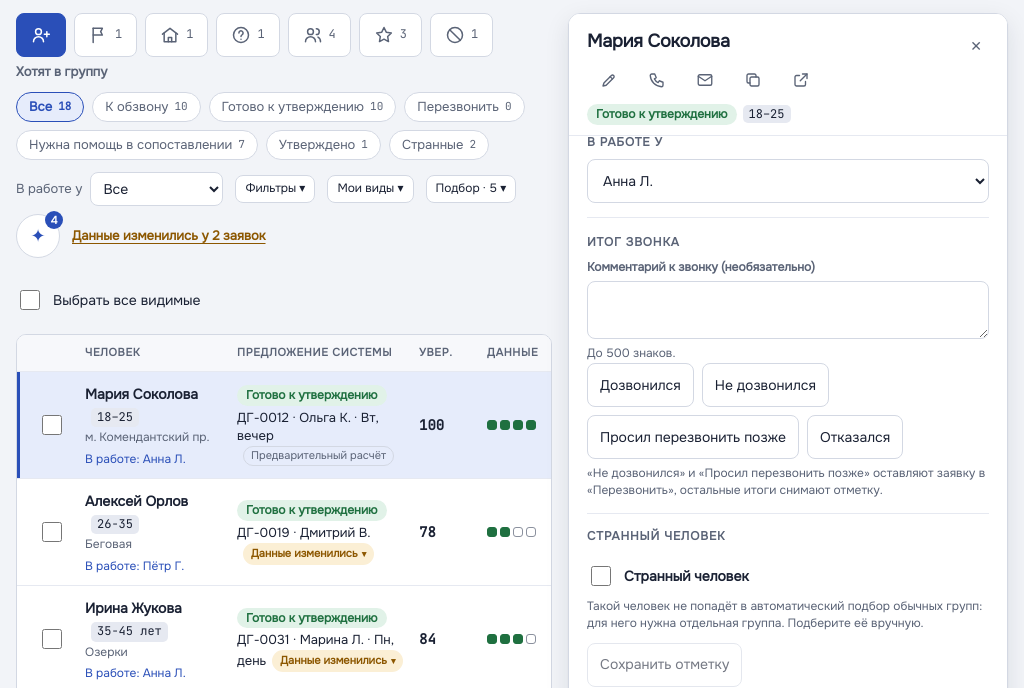
Test: Карточка заявки: итог звонка › кнопка «Дозвонился» шлёт result=reached и подтверждает «Записано: дозвонился.»
The image size is (1024, 688).
(page scrolled)
Click the button "Дозвонился".
click(640, 385)  # box [587,363,694,407]
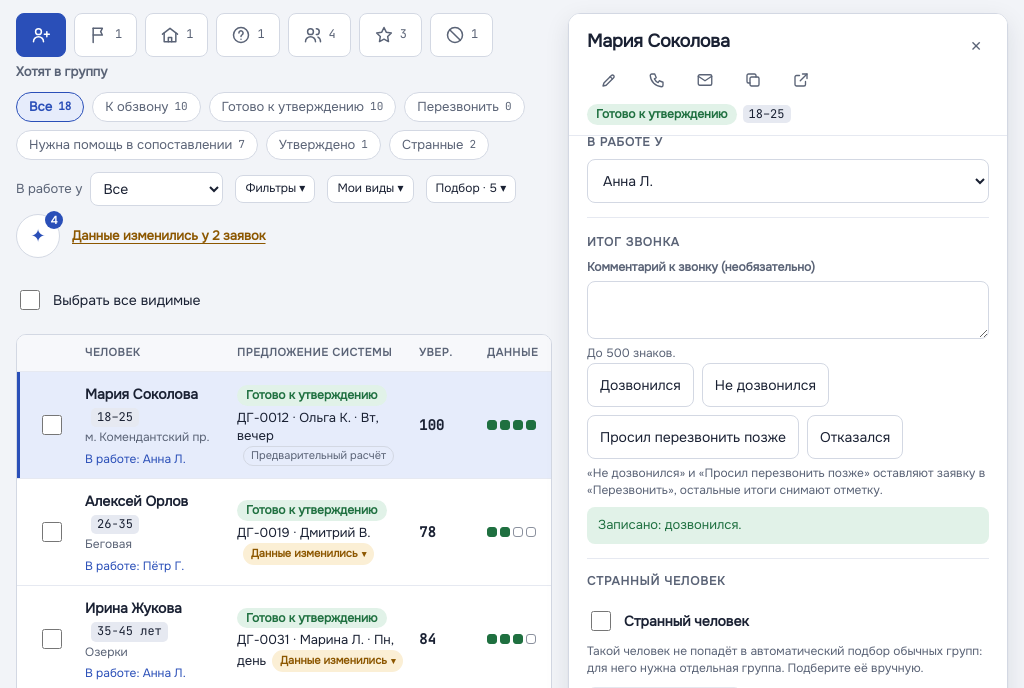
Now the text "Записано: дозвонился." is shown, box [587,507,989,544]
